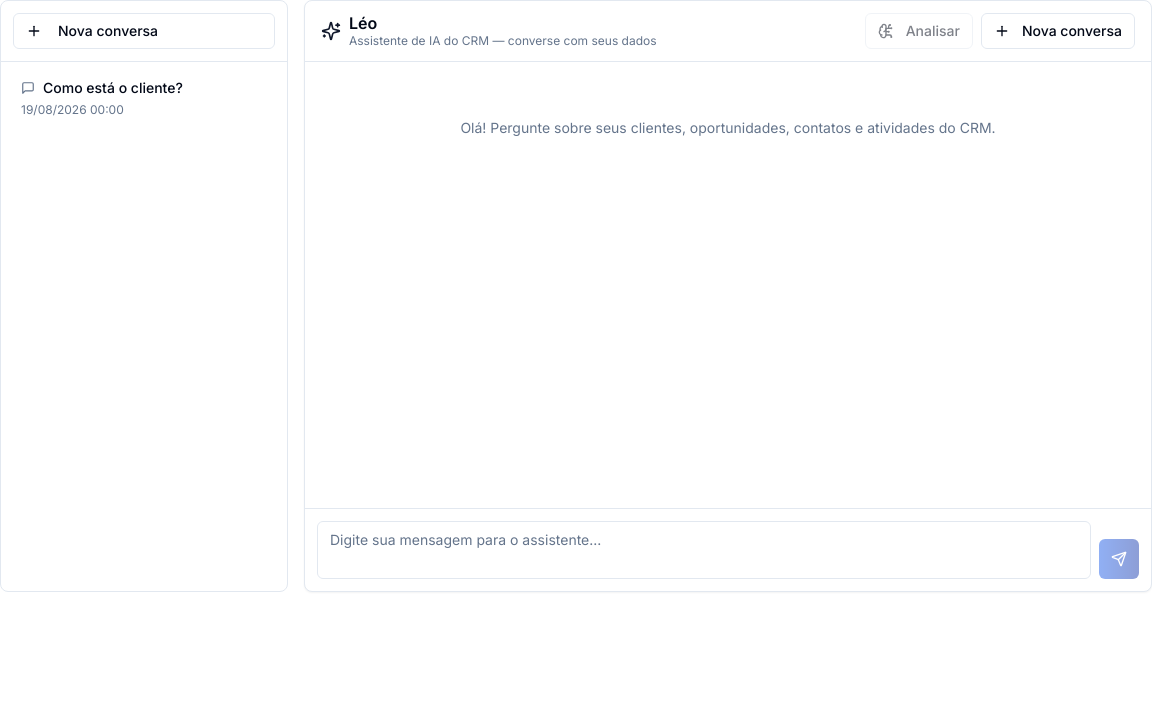
Test case: AiChatAssistant (AI-04) › carrega o histórico ao selecionar uma conversa
Click the text "Como está o cliente?".
click(113, 88)  # box [43, 78, 183, 98]
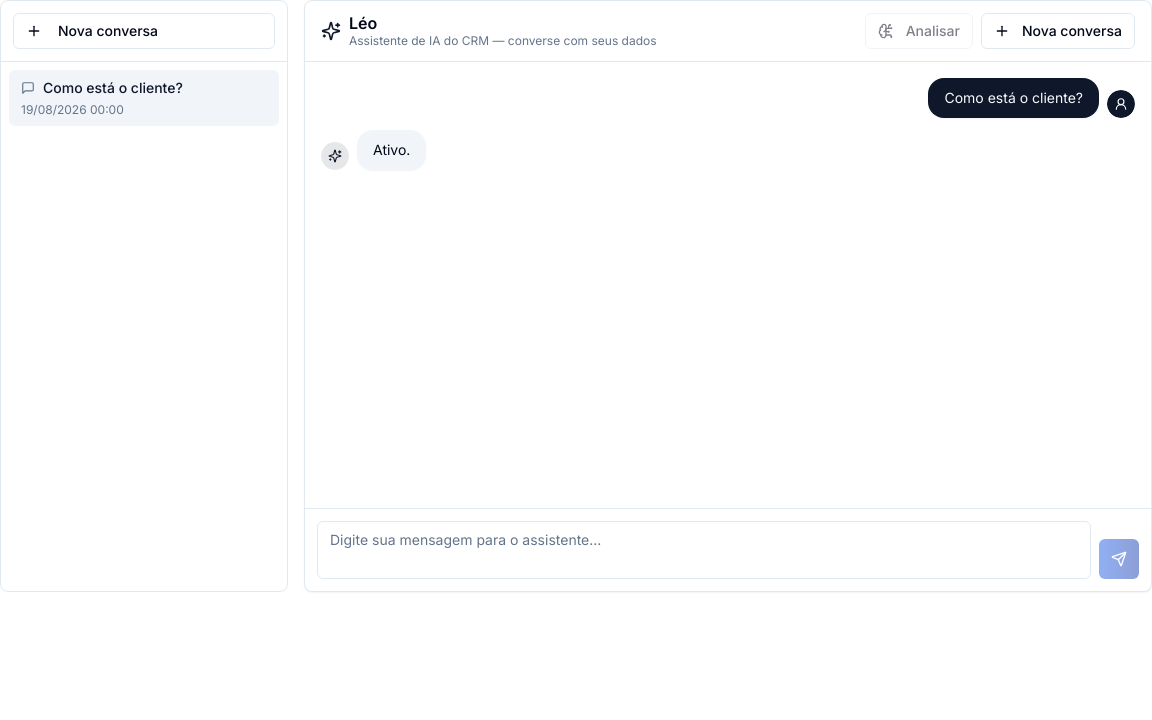
Check: the text "Ativo." is shown, box [373, 140, 410, 160]
